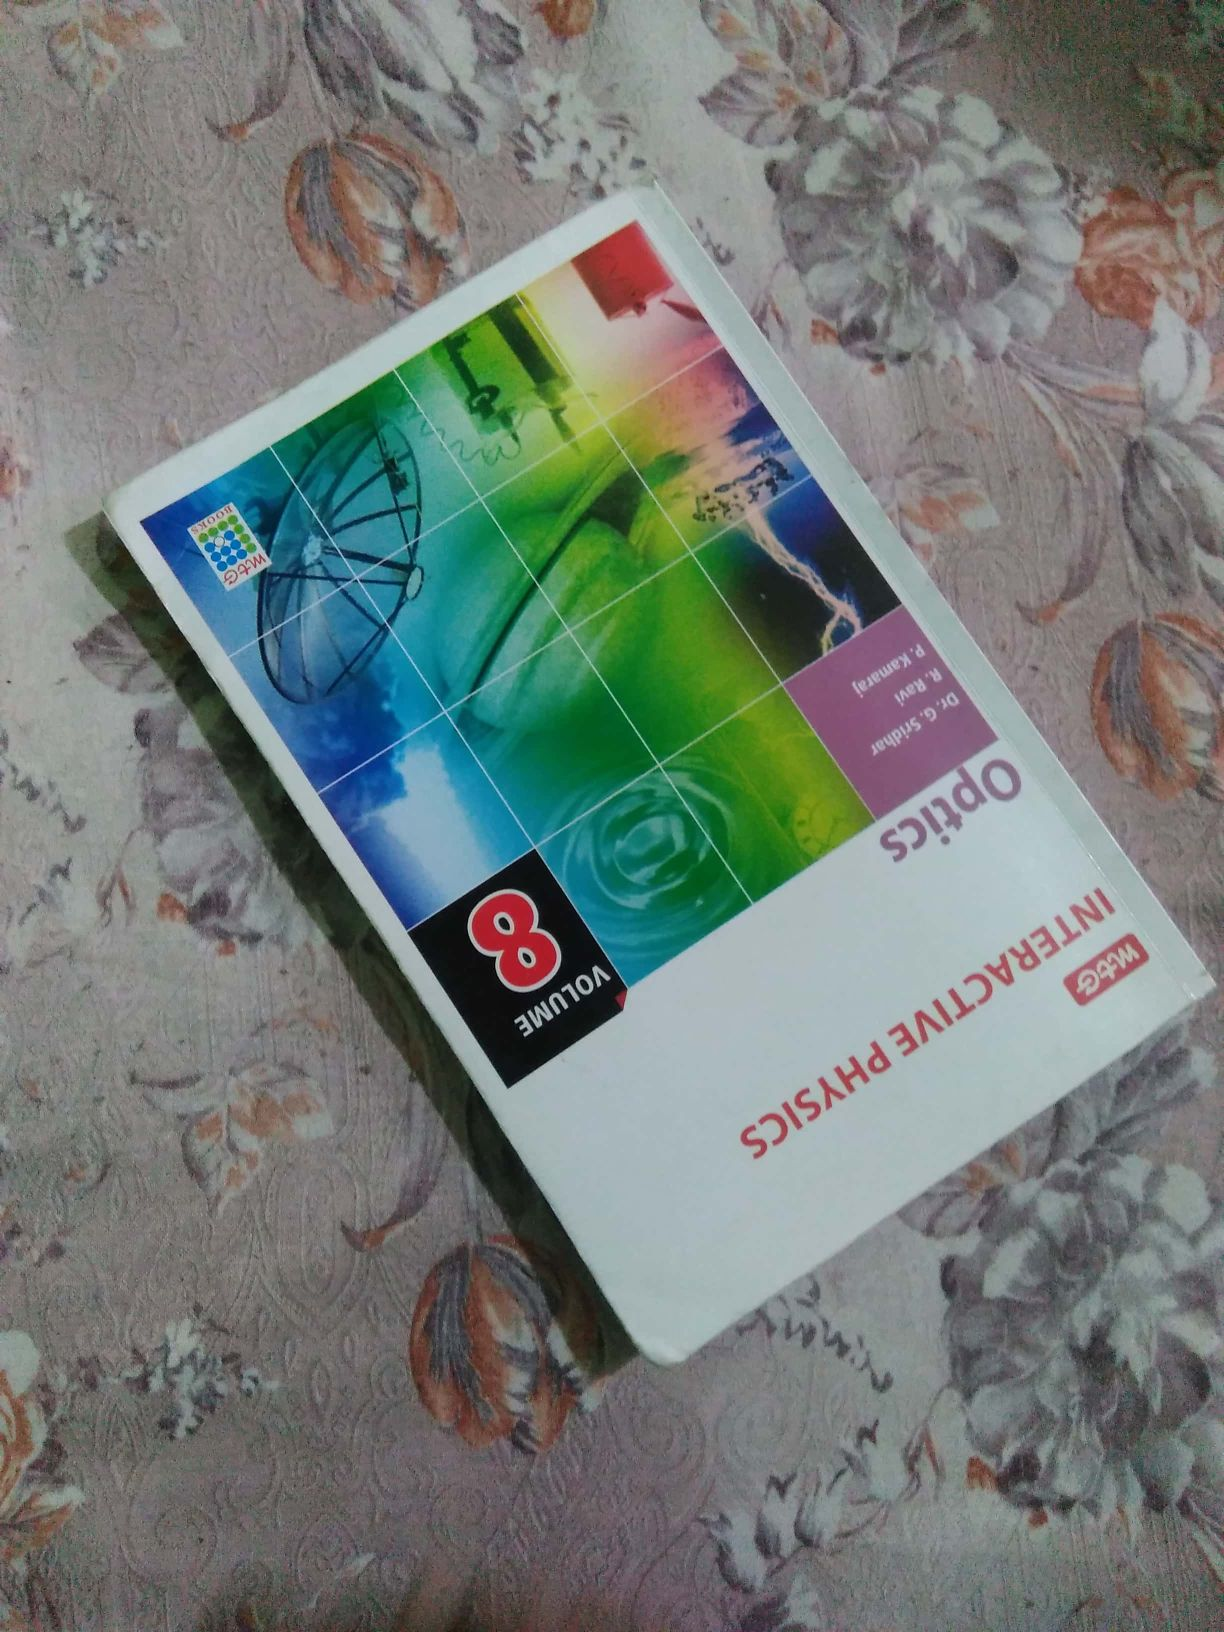optics: (190, 207, 1170, 1366)
